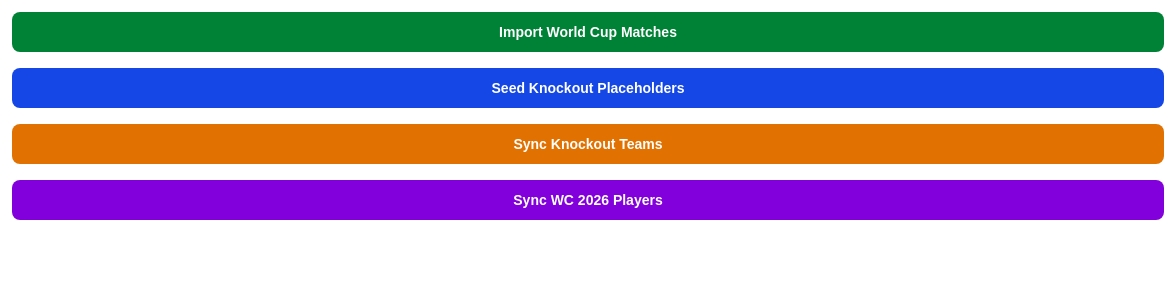
Scenario: ImportMatchesButton › shows error message when action resolves { success: false, error: "FETCH_FAILED" }
Click the button "Import World Cup Matches". click: {"x": 588, "y": 32}
box: [12, 12, 1164, 52]
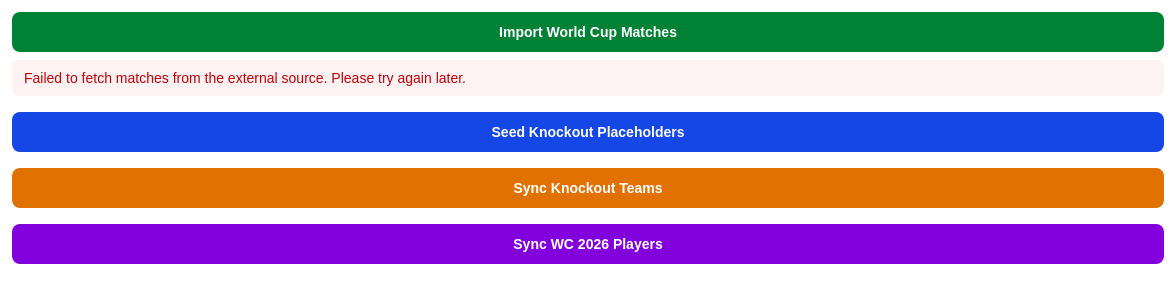
Result: the message reads "Failed to fetch matches from the external source. Please try again later." at [24, 70, 466, 86]
